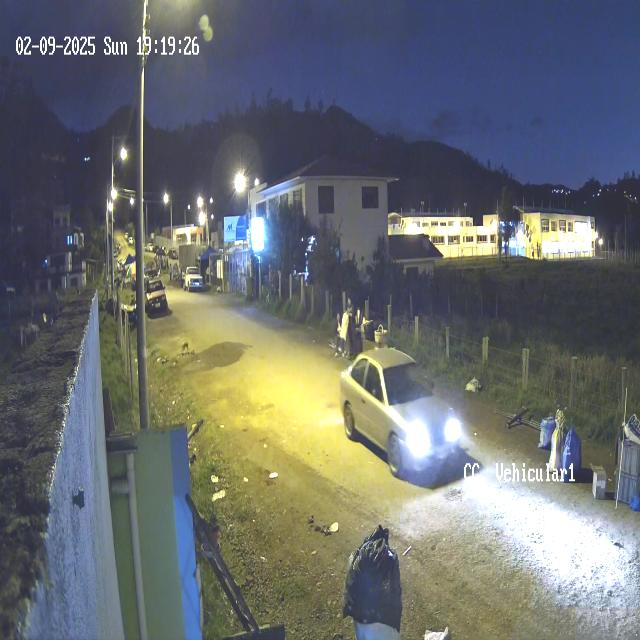SED: (337, 347, 462, 470)
